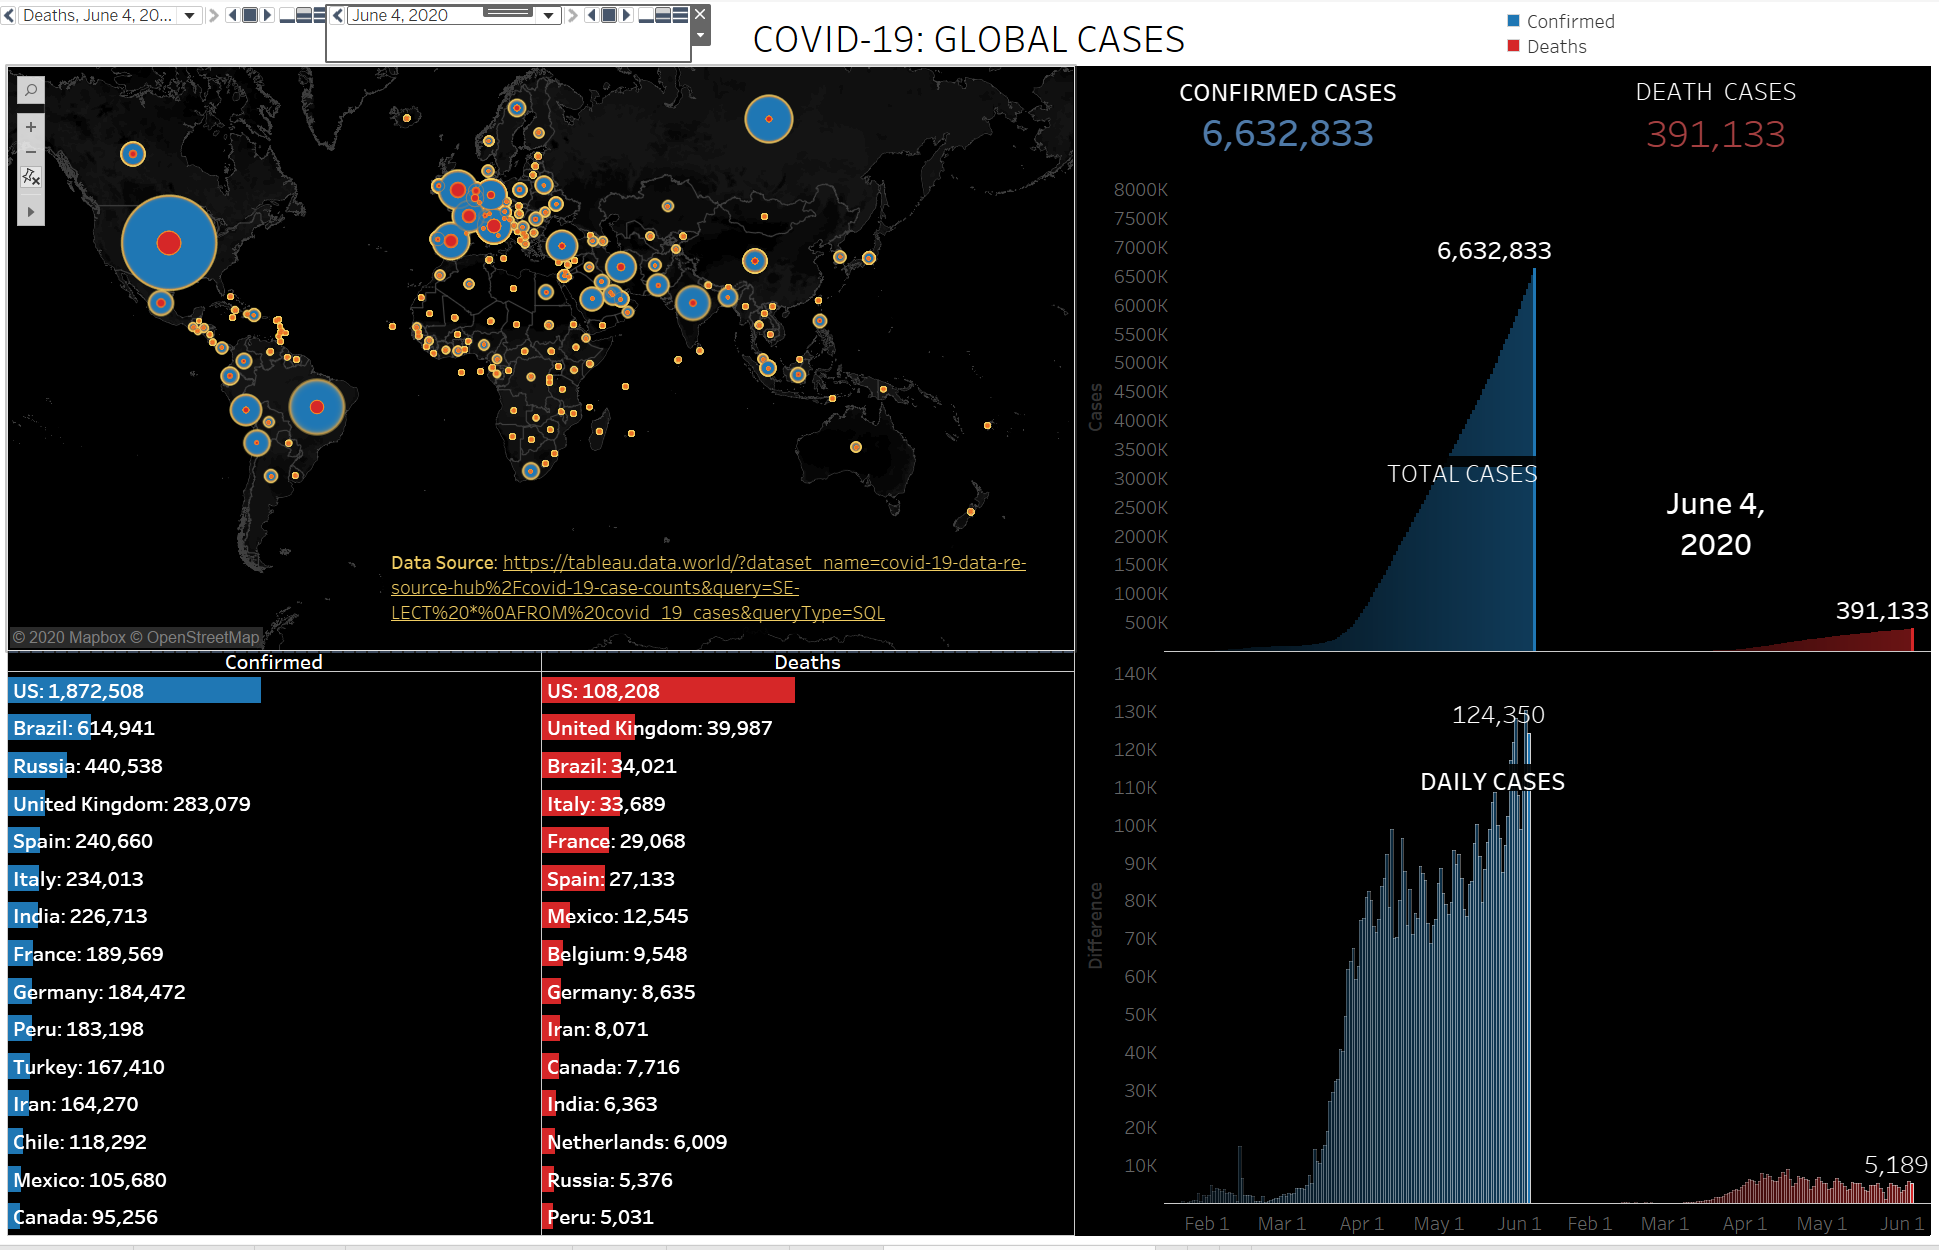

The dashboard page shown, as its layout file describes it:
{"tool":"tableau","page":{"name":"order 1: Pranav Deshpande ","canvas":[1000,1000],"units":"permille","ordinal":0},"visuals":[{"type":"currpage","title":"Confirmed_death_cases","box":[169.1,3.2,187.1,44.3]},{"type":"legend","title":"Daily_Cases","param":"[federated.1hmosf90hhynm31ctjdav04x2yll].[none:Case_Type:nk]","box":[774.2,4.8,62.9,45.1]},{"type":"text","box":[4.1,6.4,991.8,45.1]},{"type":"worksheet","title":"Global_map","mark":"Automatic","box":[4.1,51.5,550.5,471]},{"type":"worksheet","title":"header 1","mark":"Automatic","box":[554.5,51.5,219.2,80.6]},{"type":"worksheet","title":"header 2","mark":"Automatic","box":[773.7,51.5,222.2,80.6]},{"type":"worksheet","title":"Confirmed_death_cases","mark":"Bar","rows":["Cases"],"cols":["Date","Case_Type","Date"],"box":[554.5,132.1,441.4,390.4]},{"type":"worksheet","title":"COVID-19 Racing Bar Chart","mark":"Bar","cols":["Case_Type","Cases","Calculation_202380546908725250"],"box":[4.1,522.5,550.5,471]},{"type":"worksheet","title":"Daily_Cases","mark":"Bar","rows":["Difference"],"cols":["Case_Type","Date"],"box":[554.5,522.5,441.4,471.1]}]}

Visuals, with their boxes on the dashboard's canvas, which has no fixed pixel size, in thousandths of its width and height (x1, y1, x2, y2). These are canvas units, not pixel positions in the 1939x1250 screenshot, which may show the page scaled, cropped or inside an application window:
"Confirmed_death_cases" currpage: bbox(169, 3, 356, 48)
"Daily_Cases" legend: bbox(774, 5, 837, 50)
text: bbox(4, 6, 996, 52)
"Global_map" worksheet: bbox(4, 52, 555, 522)
"header 1" worksheet: bbox(554, 52, 774, 132)
"header 2" worksheet: bbox(774, 52, 996, 132)
"Confirmed_death_cases" worksheet (Bar marks): bbox(554, 132, 996, 522)
"COVID-19 Racing Bar Chart" worksheet (Bar marks): bbox(4, 522, 555, 994)
"Daily_Cases" worksheet (Bar marks): bbox(554, 522, 996, 994)
